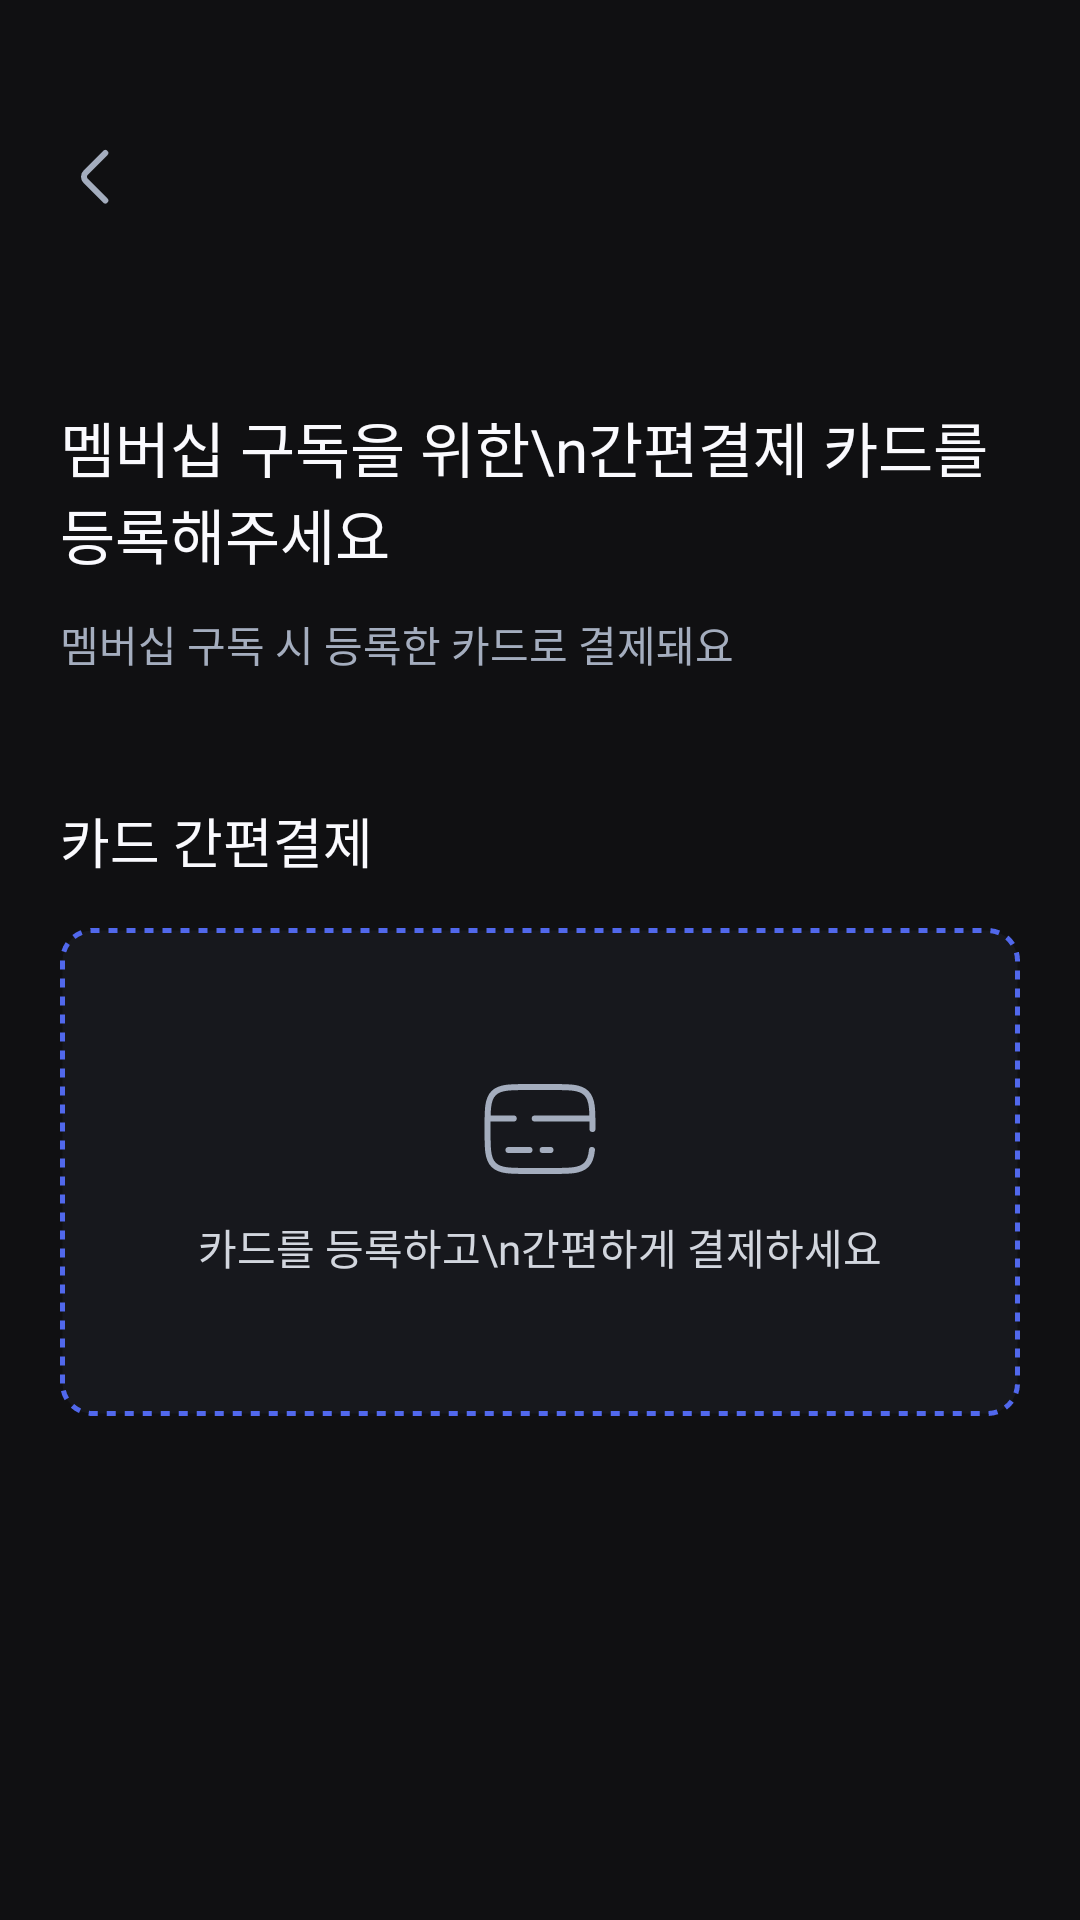

Named icons in this screenshot (1080px×1920px) and their centers, [x,y]:
arrow left: [95,177]
card line: [540,1129]
